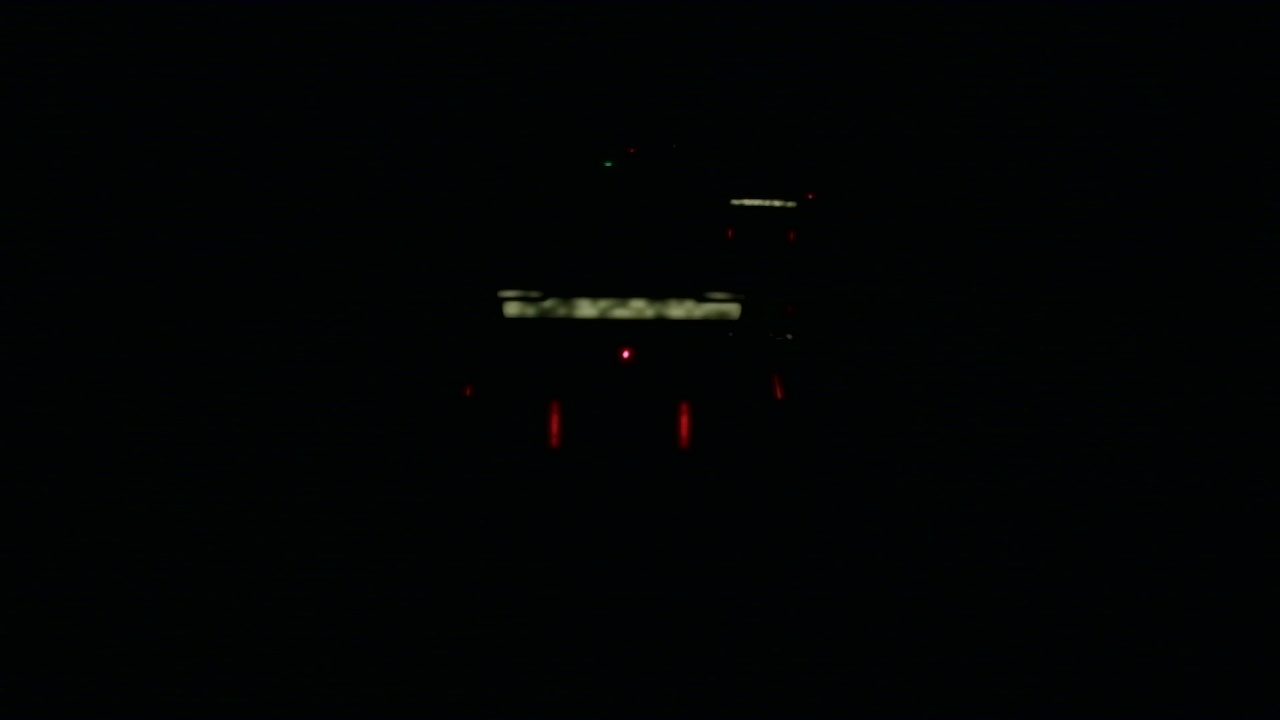lamp: (677, 398, 689, 442), (549, 398, 561, 439)
notpair1: (678, 371, 789, 452)
pair1: (550, 401, 688, 444)
